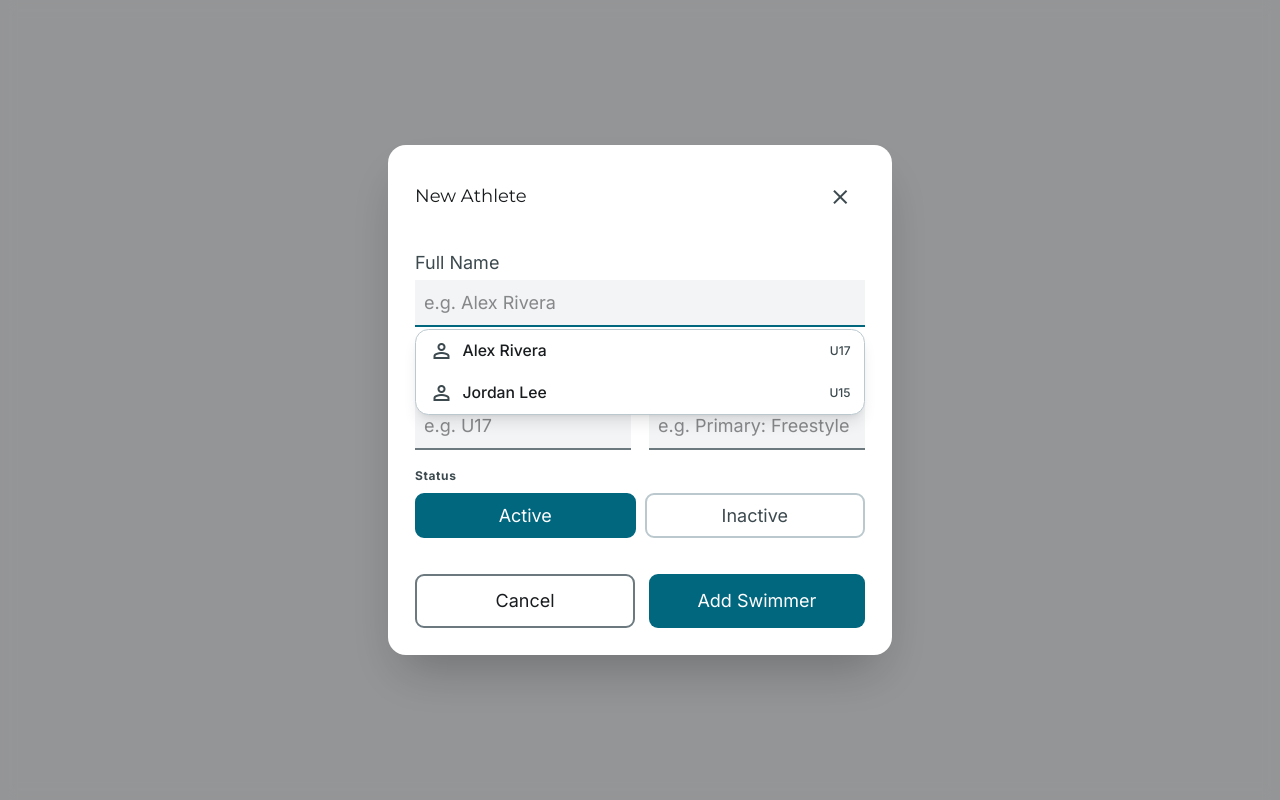
Test: SwimmerFormModal › blocks case-insensitive duplicate creation and shows an error
Type "alex rivera" into the field with placeholder "e.g. Alex Rivera" at (640, 304), box 415,280 -> 865,327
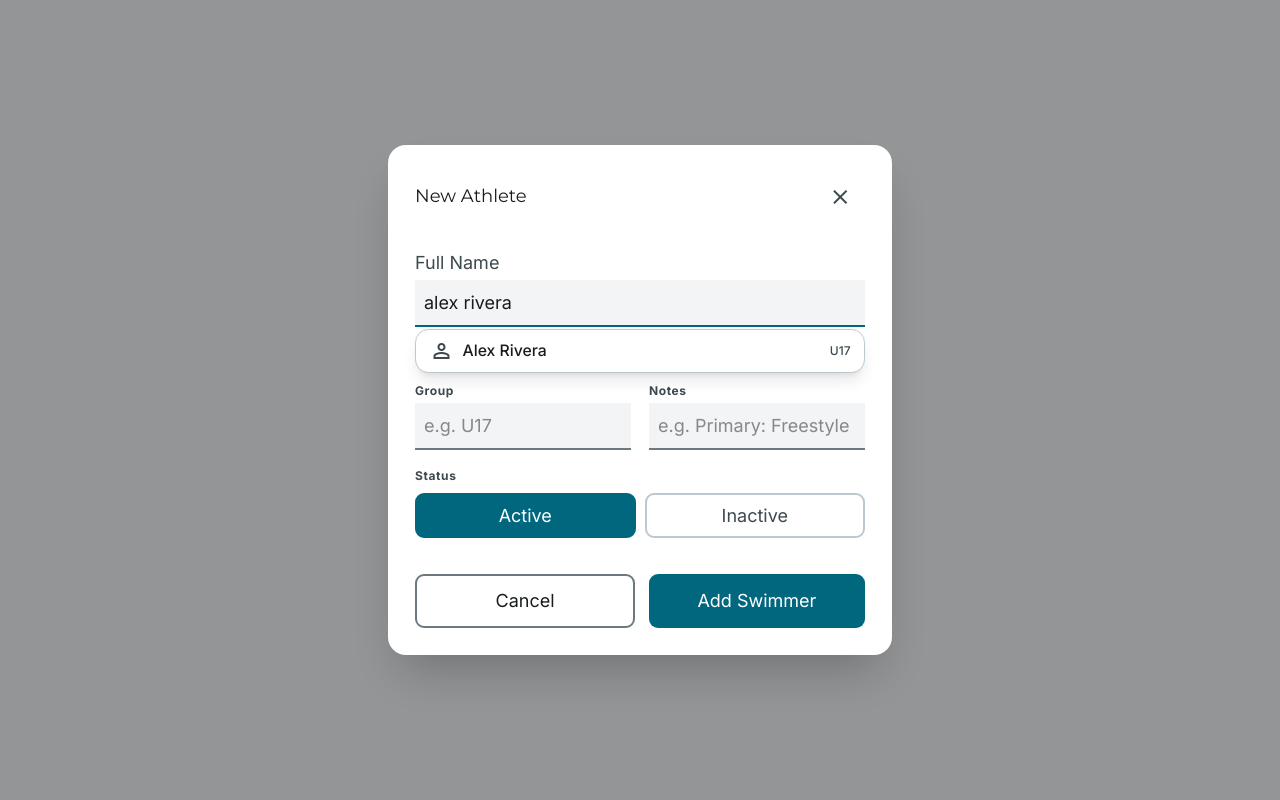
Click the button "Add Swimmer" at (757, 601), box 649,574 -> 865,628
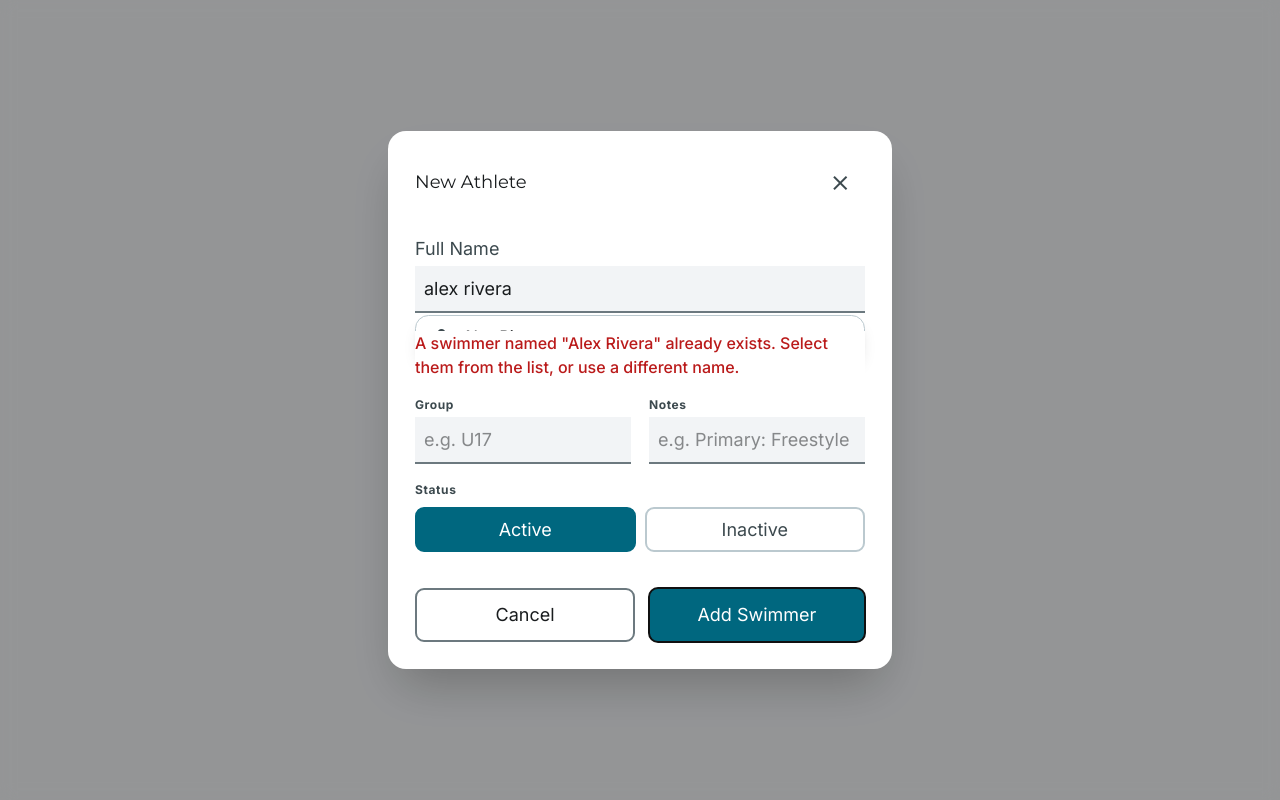
Result: the text "already exists" is shown at 415,333 -> 828,377
